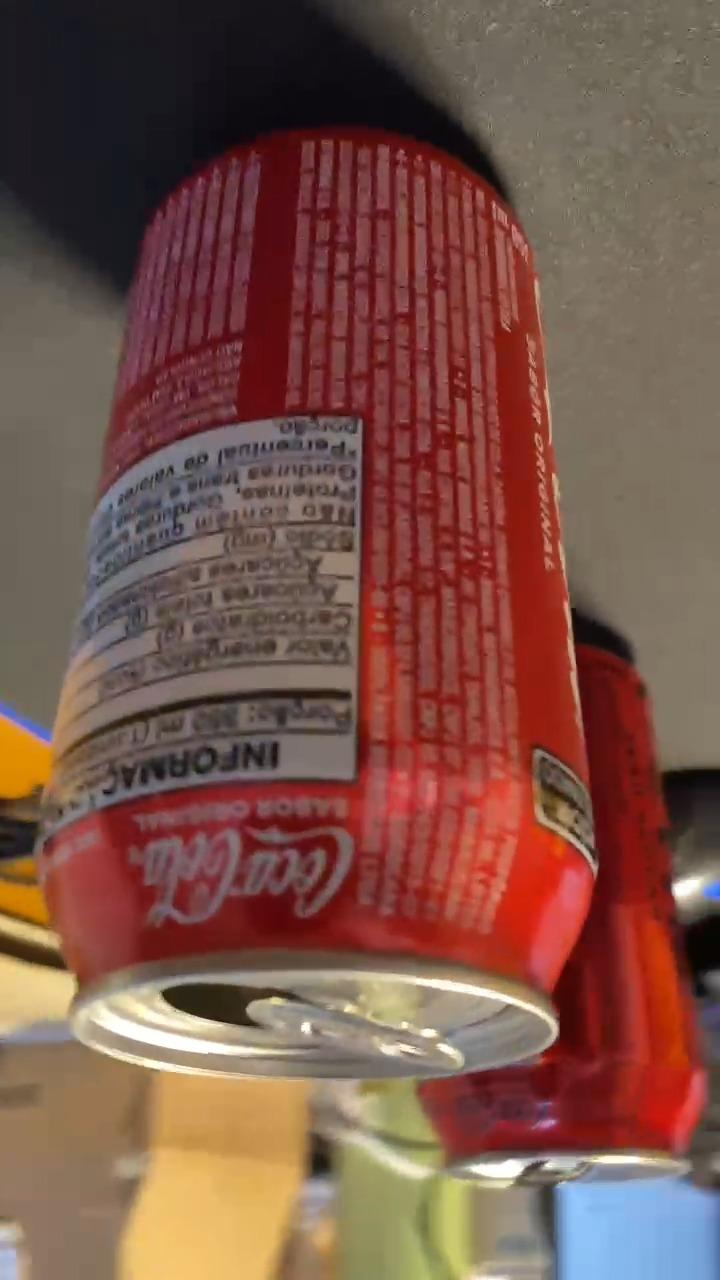coke: (68, 136, 591, 1025), (414, 645, 678, 1183)
